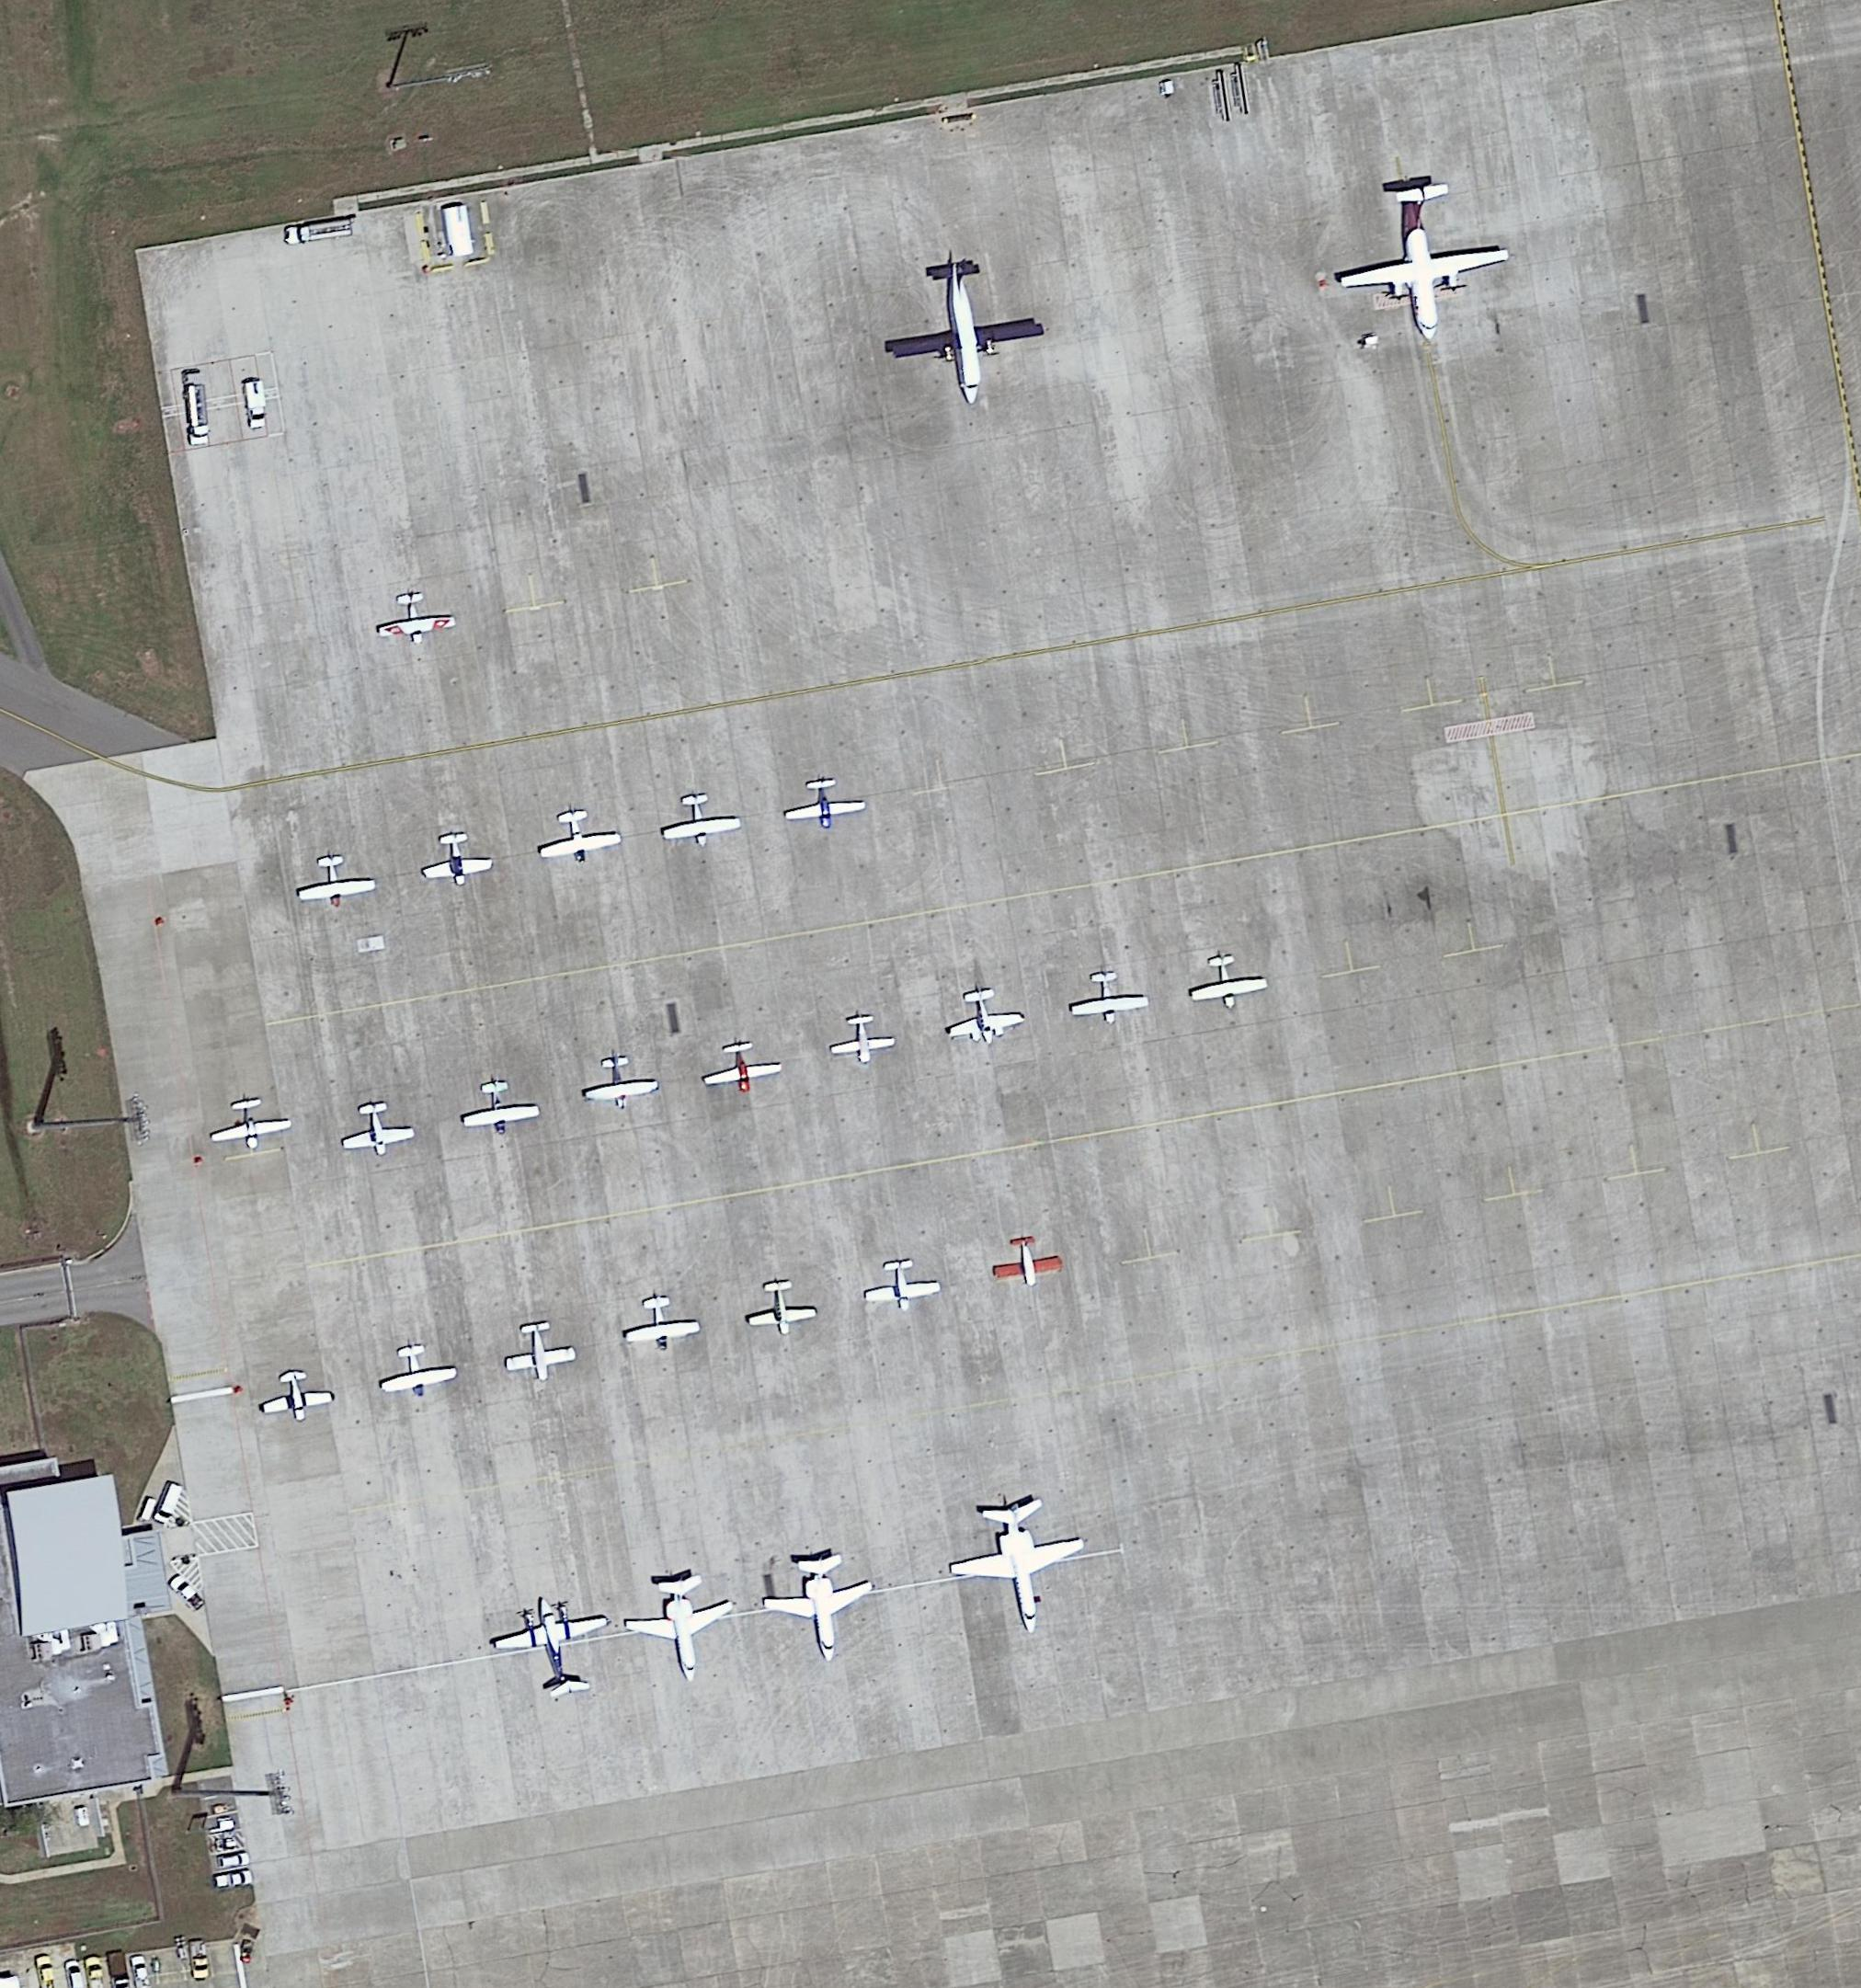plane: (1322, 178, 1522, 351), (873, 252, 1058, 420), (941, 1486, 1100, 1647), (490, 1584, 623, 1710), (759, 1544, 887, 1670), (617, 1567, 745, 1691), (939, 974, 1028, 1051), (532, 803, 624, 869), (1181, 948, 1272, 1014), (334, 1096, 418, 1164), (373, 1338, 458, 1404), (617, 1289, 703, 1355), (371, 584, 458, 649), (654, 789, 743, 852), (497, 1317, 579, 1385), (292, 848, 378, 913), (579, 1047, 661, 1114), (1067, 967, 1151, 1032), (698, 1037, 785, 1098), (206, 1095, 296, 1154), (257, 1362, 336, 1428), (780, 773, 868, 832), (460, 1077, 542, 1140), (861, 1254, 944, 1315), (742, 1276, 819, 1339), (416, 829, 495, 886), (990, 1233, 1065, 1292), (826, 1009, 897, 1068)
